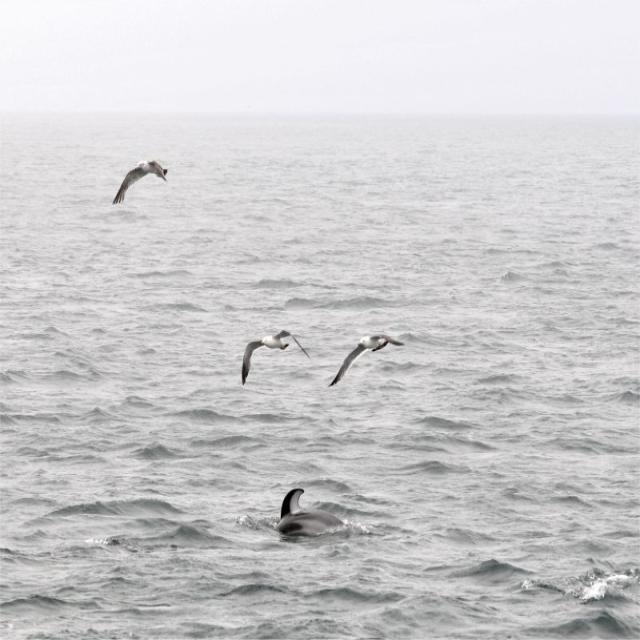bird: (328, 337, 405, 387), (240, 333, 308, 381), (113, 164, 172, 206)
